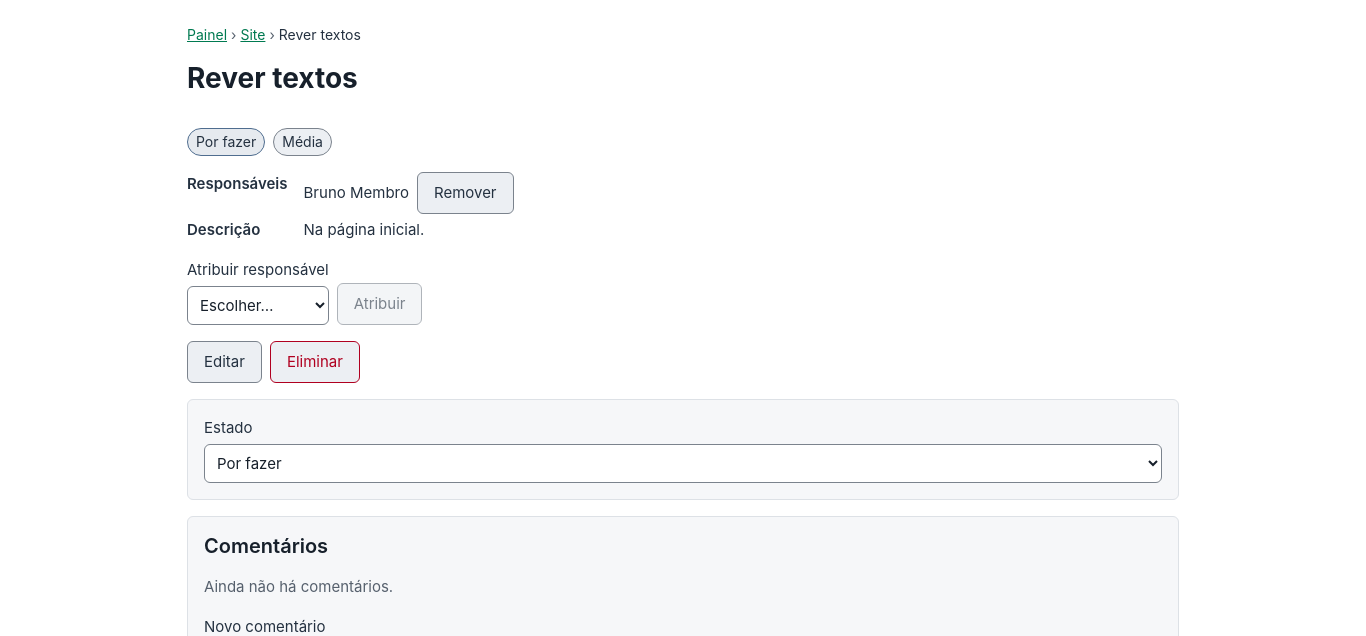
Test case: TaskDetailView (US19, US06, US07, US22) › o Gestor atribui um responsável escolhido entre quem ainda não é (US06, DE16)
Expected: the button "Atribuir" is disabled, [337, 283, 422, 325]
Select "Carla Membro" in the dropdown labelled "Atribuir responsável" at [258, 305], box [187, 286, 329, 325]
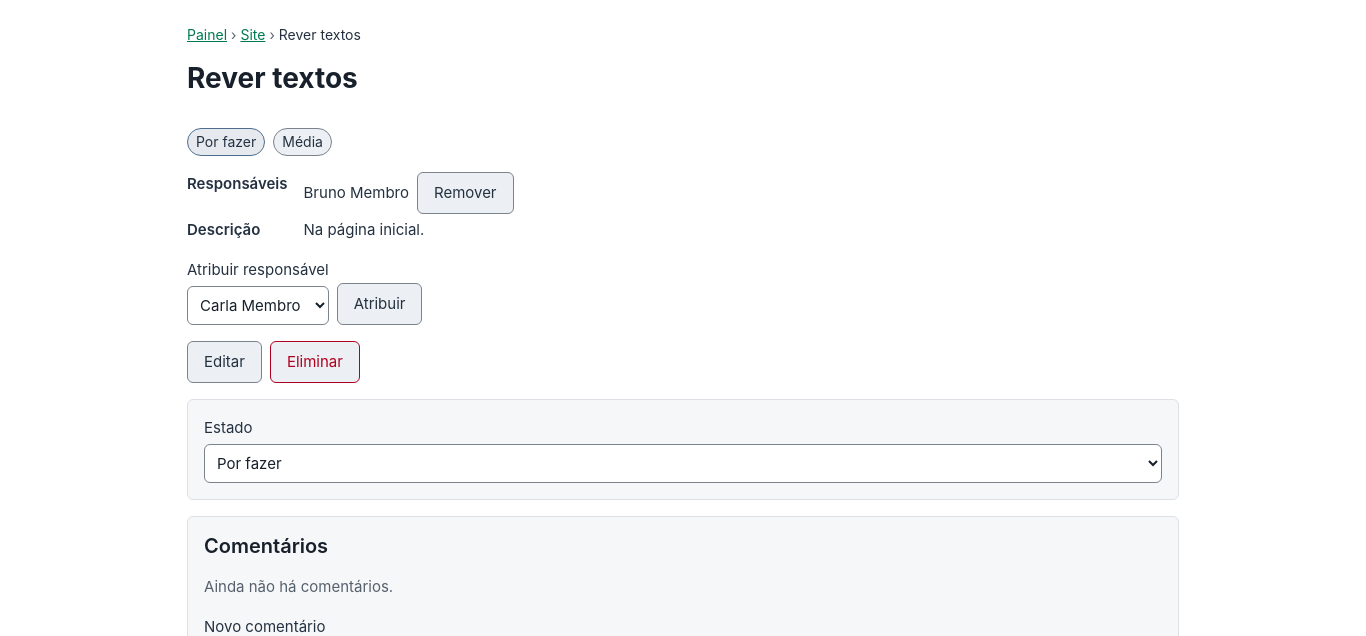
Submit the form named "Atribuir responsável", box [187, 260, 422, 325]
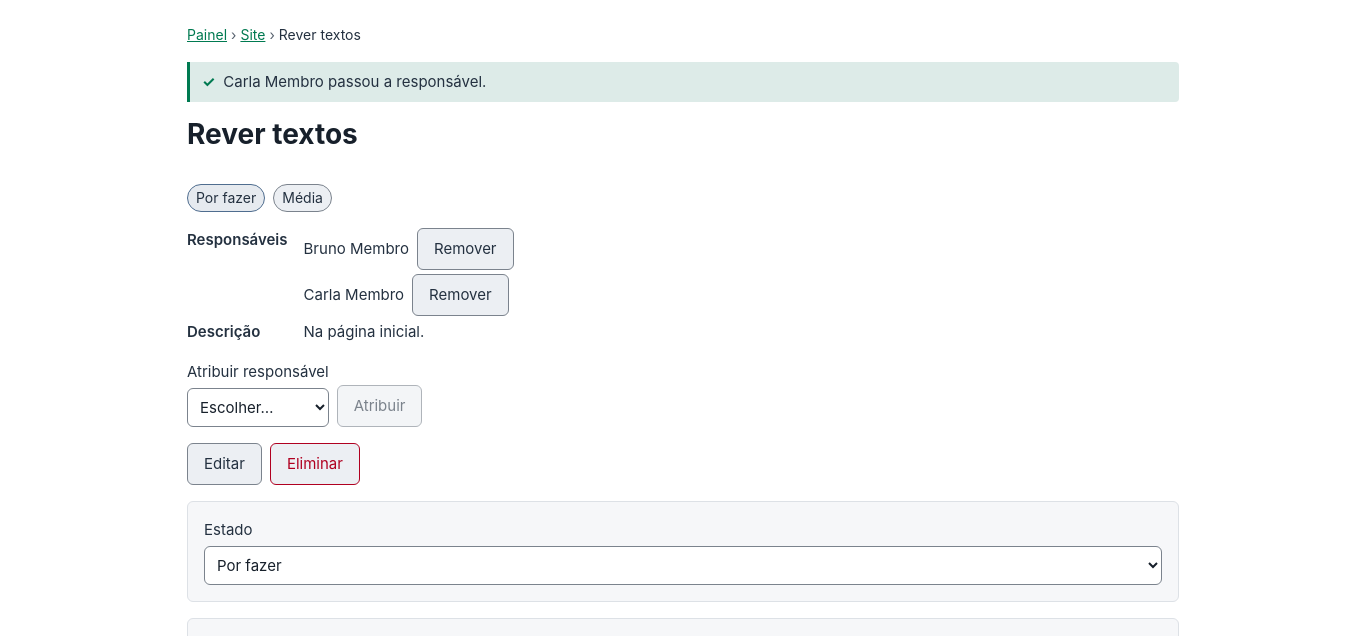
Now the message "Carla Membro passou a responsável." is shown, box [187, 62, 1179, 102]
